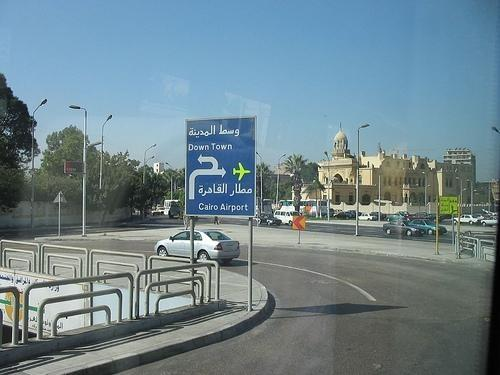bus: (279, 198, 328, 217)
car: (155, 229, 240, 264), (384, 220, 426, 236), (412, 219, 448, 234), (256, 212, 282, 227), (450, 214, 480, 226), (386, 210, 410, 222), (480, 216, 500, 227), (334, 211, 354, 220), (358, 213, 377, 221)
truck: (272, 210, 298, 226)
